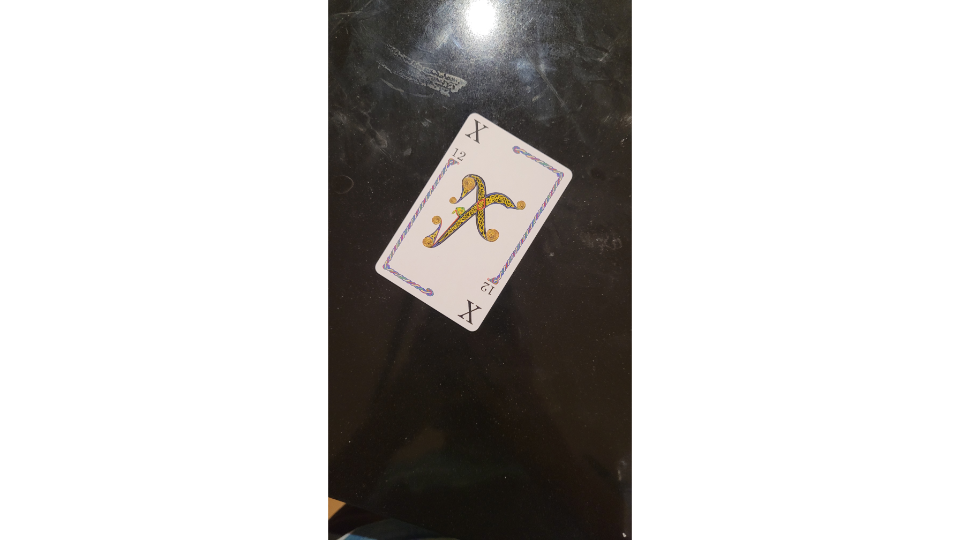X: (370, 109, 577, 332)
